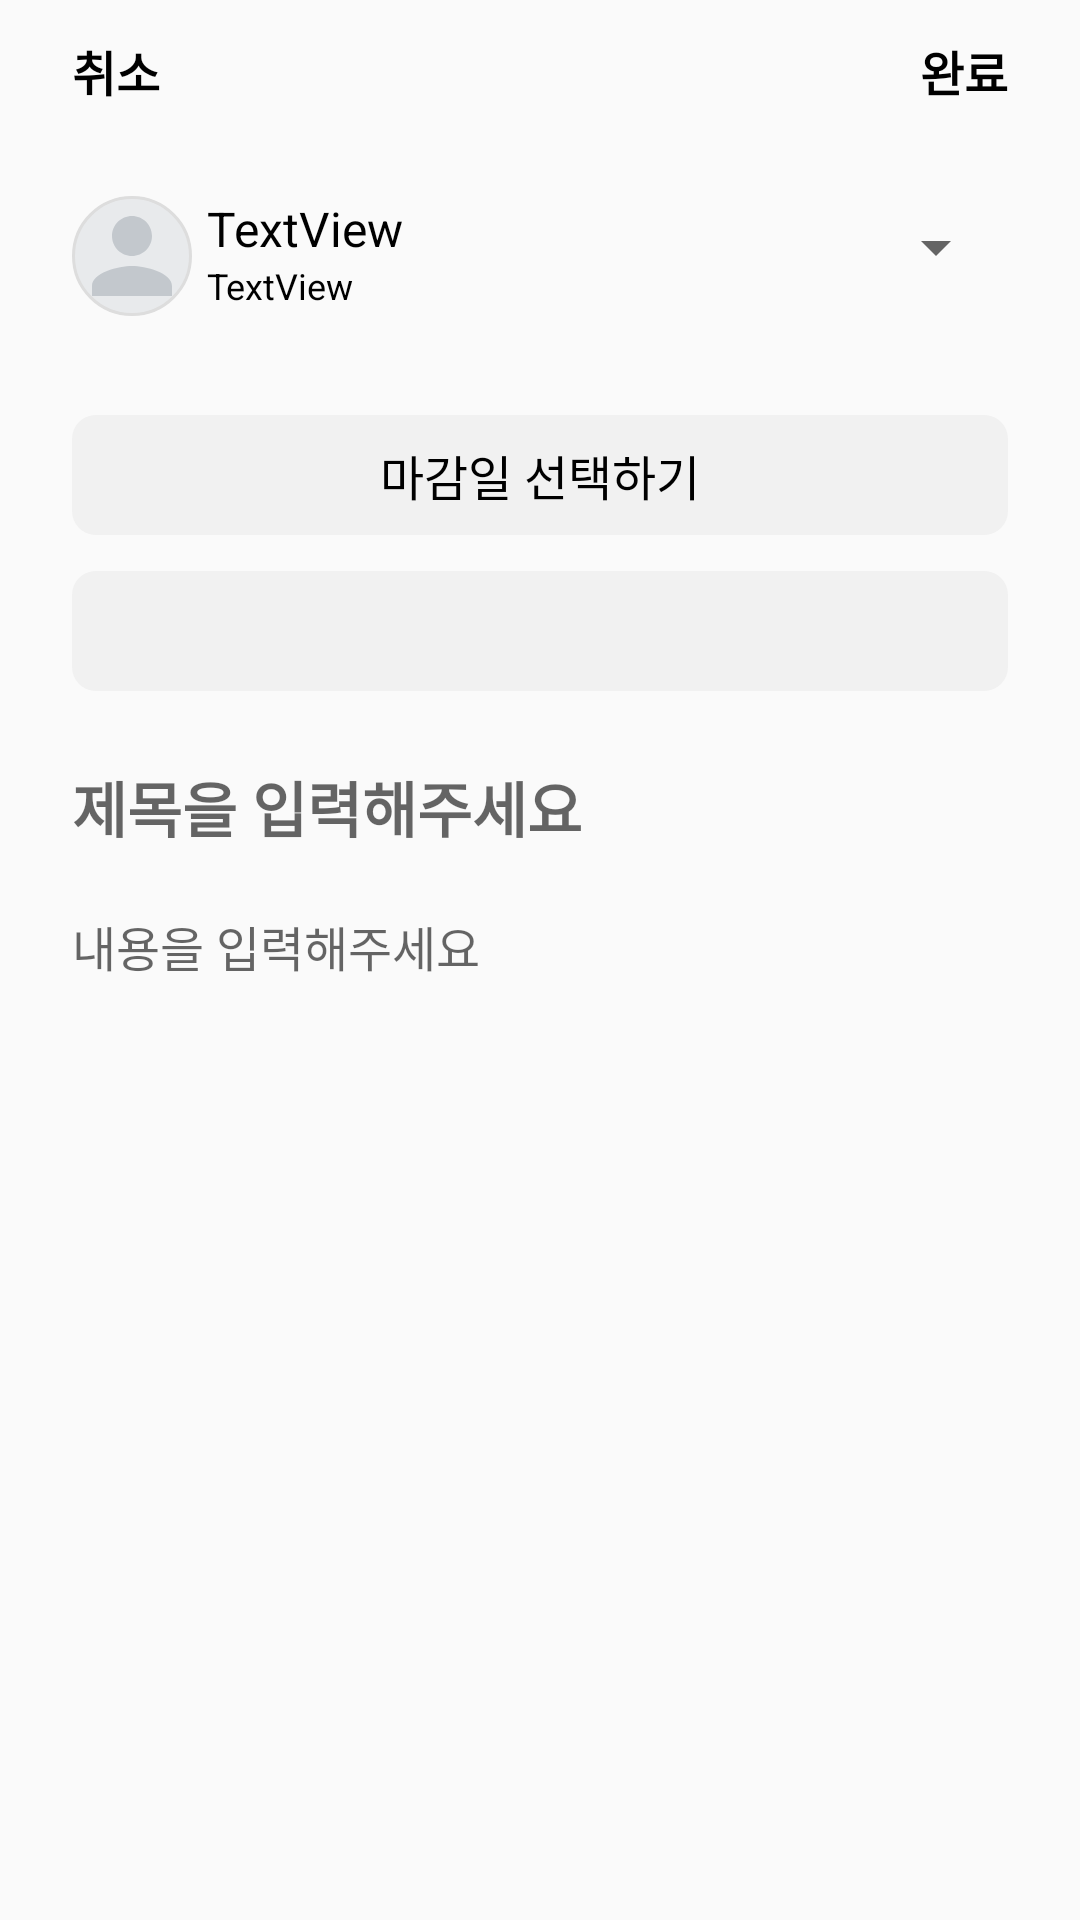

Named icons in this screenshot (1080 × 1920) and their centers, point (x, y):
person: point (132, 256)
